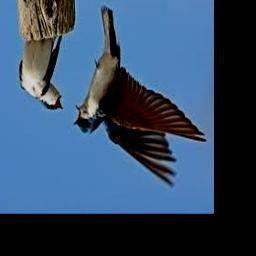Swallow: (73, 5, 206, 187), (18, 35, 62, 111)
